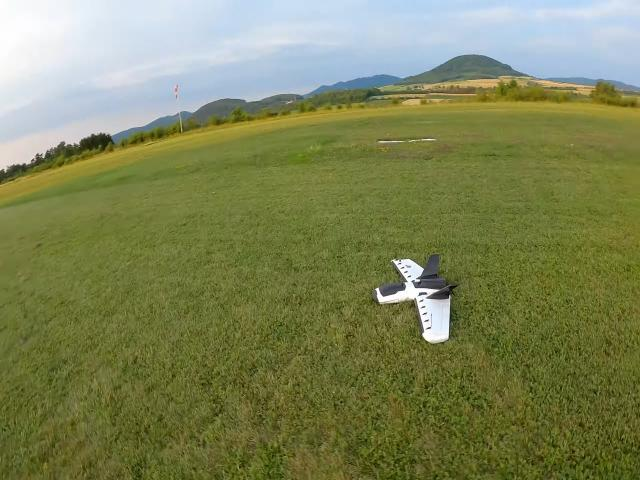plane: (373, 255, 459, 346)
